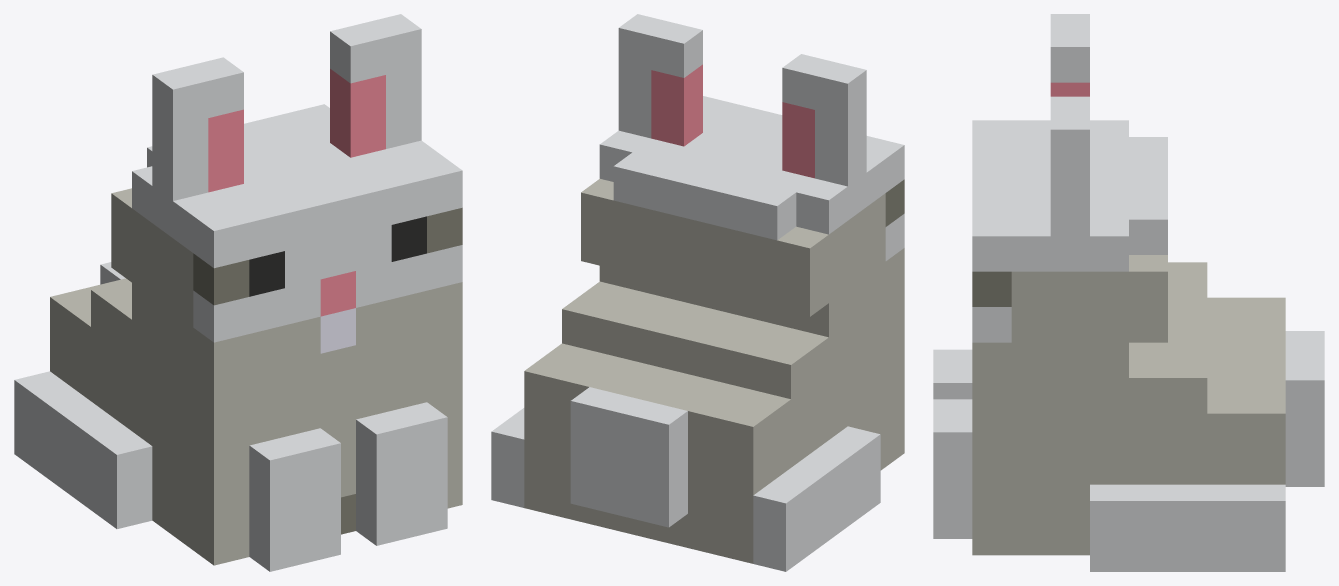
The model's file is hero-voxel.glb.
3 views of the same model, side by side, from view 1: azimuth 30°, elevation 25°; view 2: azimuth 150°, elevation 25°; view 3: azimuth 270°, elevation 25° (orthographic). The views are drawn at different scales.
Visible parts, largest first — view 1: Hero • lapin voxel; view 2: Hero • lapin voxel; view 3: Hero • lapin voxel.
Part boxes in pixels (x1,y1,x2,y2): Hero • lapin voxel: (14,14,462,571); Hero • lapin voxel: (491,14,904,571); Hero • lapin voxel: (933,14,1324,571).
Size of the model in its own units: 0.9 by 1.2 by 1.
